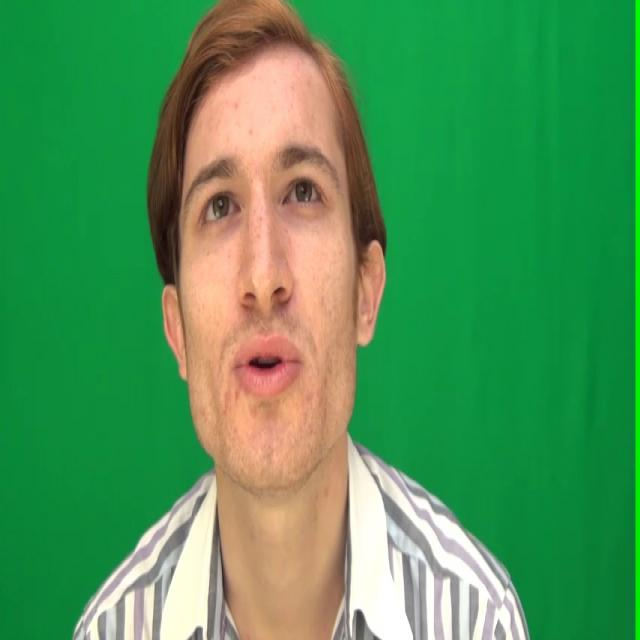Engaged: (175, 28, 358, 475)
